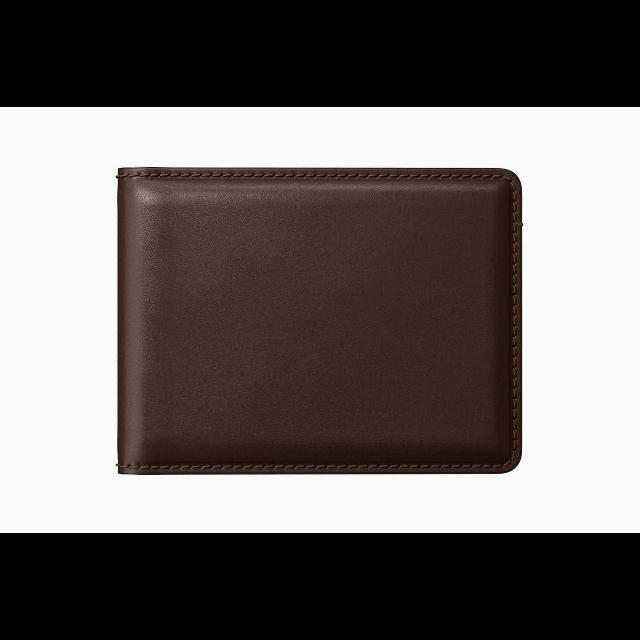wallet: (118, 168, 522, 472)
